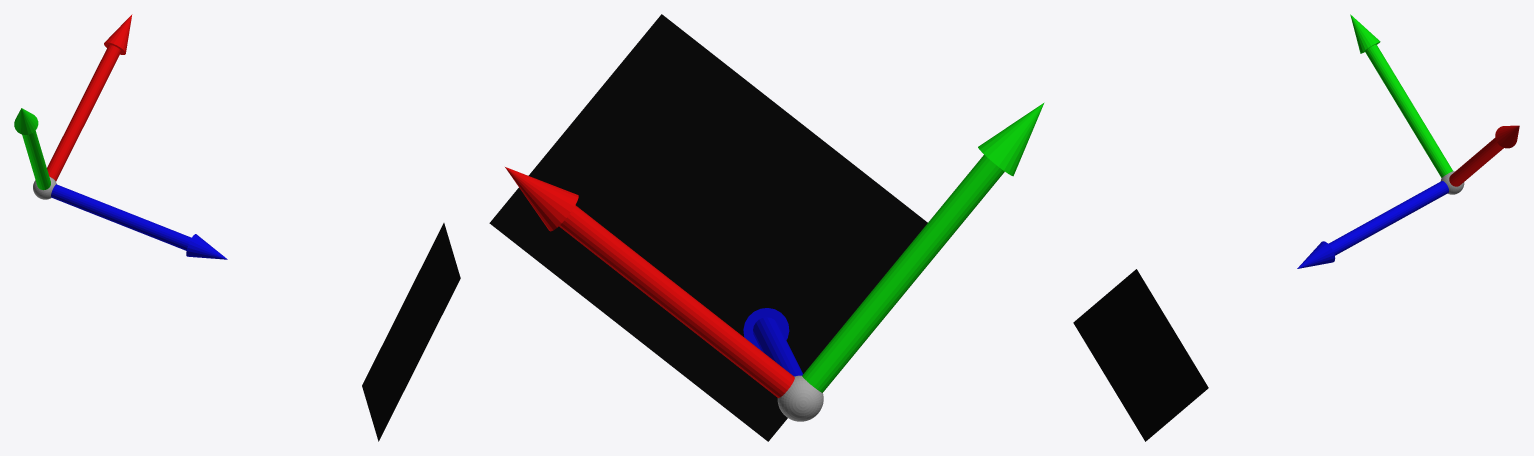
The picture shows the model from 3 angles, left to right: view 1: azimuth 30°, elevation 25°; view 2: azimuth 150°, elevation 25°; view 3: azimuth 270°, elevation 25°; orthographic projection. The views are drawn at different scales.
Bounding box in the file's own units: 0.2591 × 0.215 × 0.2818.
